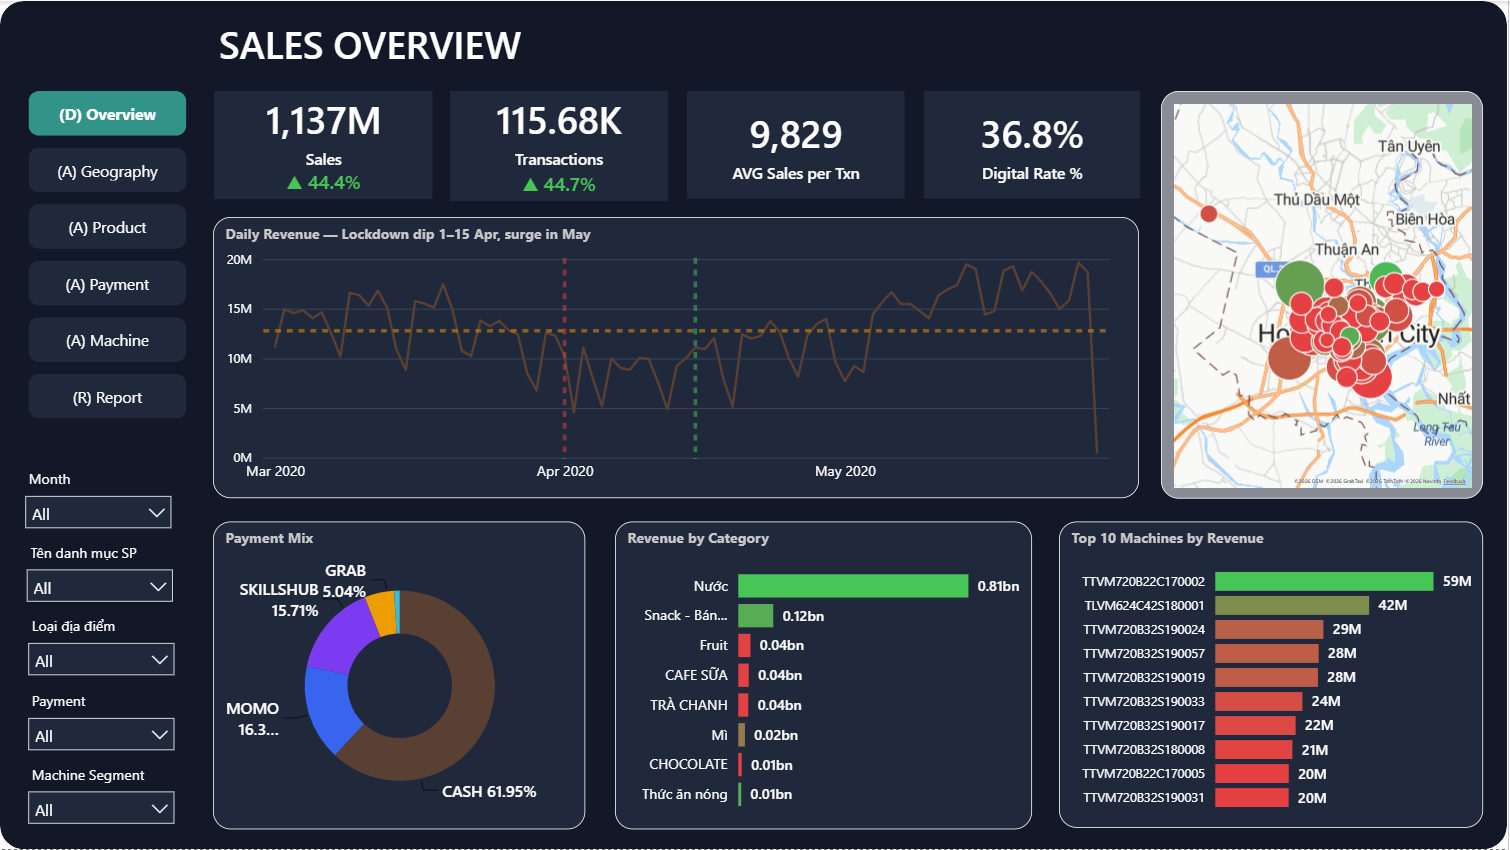

Layout of this report page (visuals, bound fields, positions):
{"tool":"powerbi","page":{"name":"(D) Overview","canvas":[1280,720],"ordinal":0},"visuals":[{"type":"group","id":"g1","title":"Background","box":[0,0,1279.1,720],"z":0},{"type":"shape","box":[0,0,1279.1,720],"z":0,"group":"g1"},{"type":"slicer","fields":{"Values":["dDate.MonthName"]},"box":[11.9,391.7,143.7,59.3],"z":0,"group":"g2"},{"type":"textbox","box":[180.8,8.9,283.9,54.7],"z":1000},{"type":"card","fields":{"Values":["CountNonNull(fBanHang.Id)"]},"box":[382.1,75.9,184.3,67],"z":1000,"group":"g4"},{"type":"card","fields":{"Values":["Sum(fBanHang.Sales)"]},"box":[182.2,76.4,184.7,67.3],"z":1000,"group":"g3"},{"type":"slicer","fields":{"Values":["dSanPham.Tên danh mục SP"]},"box":[13.2,454.3,143.7,59.3],"z":1000,"group":"g2"},{"type":"card","fields":{"Values":["Avg(fBanHang.Sales)"]},"box":[583.5,75.9,184.5,91.6],"z":2000},{"type":"slicer","fields":{"Values":["dDiaDiemCha.Loại địa điểm"]},"box":[14.5,517,143.7,59.3],"z":2000,"group":"g2"},{"type":"donutChart","title":"Payment Mix","fields":{"Category":["dPaymentType.PaymentName"],"Y":["Sum(fBanHang.Sales)"]},"box":[181.4,441.4,315.7,261.4],"z":3000},{"type":"slicer","fields":{"Values":["dPaymentType.PaymentName"]},"box":[14.5,579.6,143.7,59.3],"z":3000,"group":"g2"},{"type":"card","fields":{"Values":["fBanHang.MoM% Transactions Label"]},"box":[382,141.5,184.3,26],"z":4000,"group":"g4"},{"type":"card","fields":{"Values":["fBanHang.MoM% Sales Label"]},"box":[182.1,141.6,184.4,26.2],"z":4000,"group":"g3"},{"type":"clusteredBarChart","title":"Revenue by Category","fields":{"Category":["dSanPham.Tên danh mục SP"],"Y":["Sum(fBanHang.Sales)"]},"box":[521.4,441.4,354.3,261.4],"z":4000},{"type":"slicer","fields":{"Values":["fBanHang.Machine Segment"]},"box":[14.5,642.3,143.7,59.3],"z":4000,"group":"g2"},{"type":"group","id":"g2","title":"Filter","box":[11.9,391.7,146.4,309.9],"z":5000},{"type":"group","id":"g3","title":"Group 2","box":[182.1,76.4,184.6,91.7],"z":6000},{"type":"group","id":"g4","title":"Group 2","box":[382,75.9,184.5,92.9],"z":7000},{"type":"card","fields":{"Values":["fBanHang.Digital Rate %"]},"box":[783.7,75.9,183.2,91.6],"z":8000},{"type":"lineChart","title":"Daily Revenue — Lockdown dip 1–15 Apr, surge in May","fields":{"Category":["dDate.Date"],"Y":["Sum(fBanHang.Sales)"]},"box":[181.4,182.9,785.7,238.6],"z":9000},{"type":"clusteredBarChart","title":"Top 10 Machines by Revenue","fields":{"Category":["dDanhSachMay.Mã máy"],"Y":["Sum(fBanHang.Sales)"]},"box":[898.3,441.4,360.2,260.2],"z":10000},{"type":"pageNavigator","box":[23.7,76.5,134.5,283.5],"z":11000},{"type":"azureMap","title":"Unit Sold by Mã máy (Top 10)","fields":{"Y":["dDanhSachMay.Lat"],"X":["dDanhSachMay.Long"],"Size":["Sum(fBanHang.Sales)"]},"box":[985.7,75.8,273.3,345.9],"z":12000}]}

Visuals, with their boxes in screenshot pixels (x1, y1, x2, y2), scaled from the page's 1280x720 canvas onto the 1510x850 screenshot:
"Background" group: 0 0 1509 849
shape: 0 0 1509 849
slicer - dDate.MonthName: 14 462 184 532
textbox: 213 11 548 75
card - CountNonNull(fBanHang.Id): 451 90 668 169
card - Sum(fBanHang.Sales): 215 90 433 170
slicer - dSanPham.Tên danh mục SP: 16 536 185 606
card - Avg(fBanHang.Sales): 688 90 906 198
slicer - dDiaDiemCha.Loại địa điểm: 17 610 187 680
"Payment Mix" donutChart: 214 521 586 830
slicer - dPaymentType.PaymentName: 17 684 187 754
card - fBanHang.MoM% Transactions Label: 451 167 668 198
card - fBanHang.MoM% Sales Label: 215 167 432 198
"Revenue by Category" clusteredBarChart: 615 521 1033 830
slicer - fBanHang.Machine Segment: 17 758 187 828
"Filter" group: 14 462 187 828
"Group 2" group: 215 90 433 198
"Group 2" group: 451 90 668 199
card - fBanHang.Digital Rate %: 925 90 1141 198
"Daily Revenue — Lockdown dip 1–15 Apr, surge in May" lineChart: 214 216 1141 498
"Top 10 Machines by Revenue" clusteredBarChart: 1060 521 1485 828
pageNavigator: 28 90 187 425
"Unit Sold by Mã máy (Top 10)" azureMap: 1163 89 1485 498
